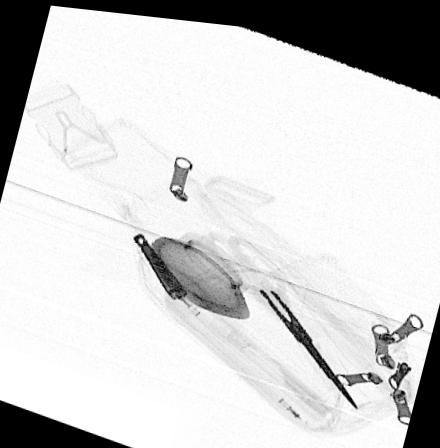Scissors: (196, 227, 361, 402)
